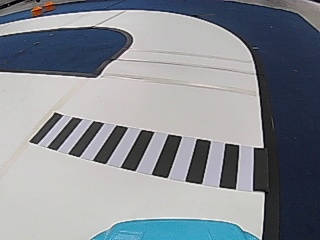CrossWalk: (38, 114, 267, 192)
